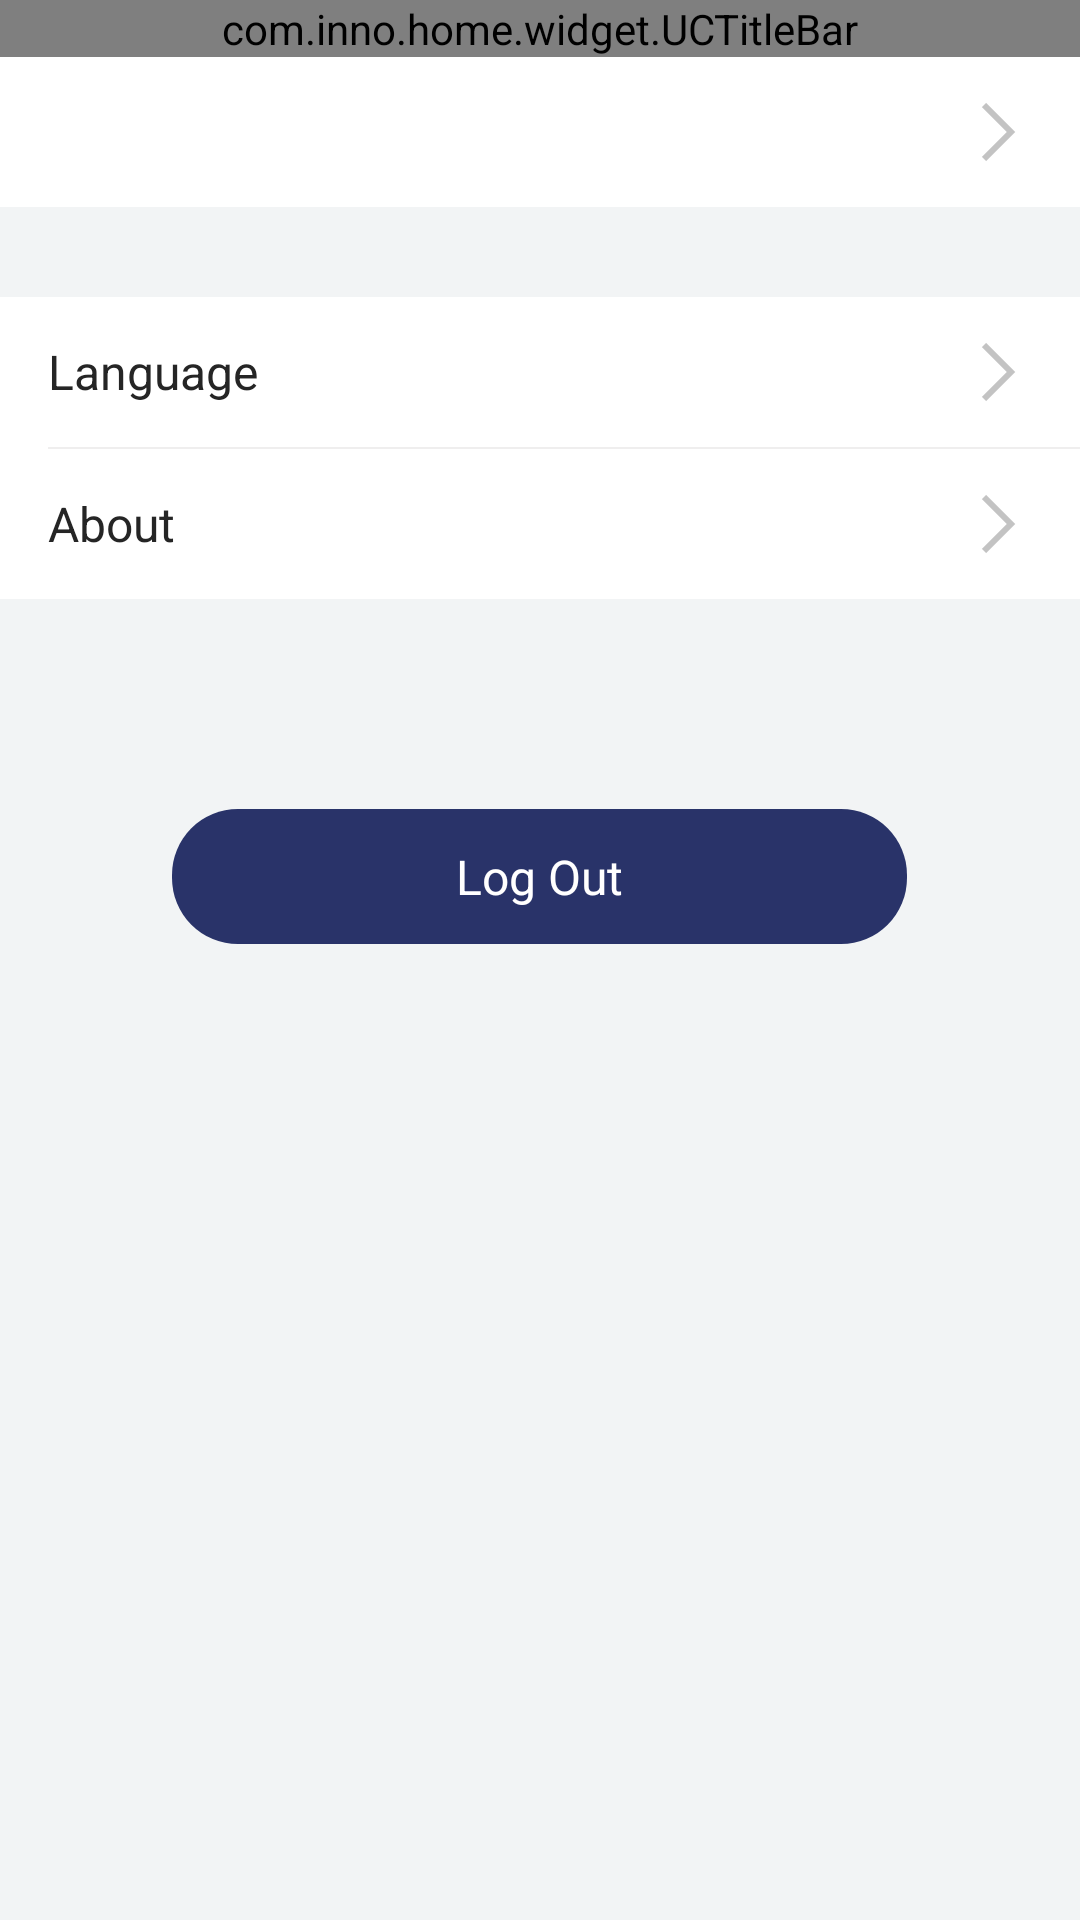

Icons on this 1080px x 1920px Android screen, each with its box as (x1=x1, y1=y1, x2=x2, y2=y2):
enter: (x1=982, y1=103, x2=1015, y2=161), (x1=982, y1=343, x2=1015, y2=401), (x1=982, y1=495, x2=1015, y2=553)
